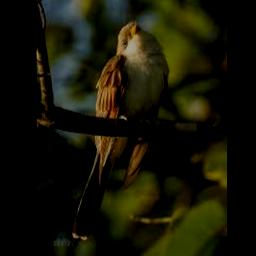Cuckoo: (73, 22, 168, 240)
